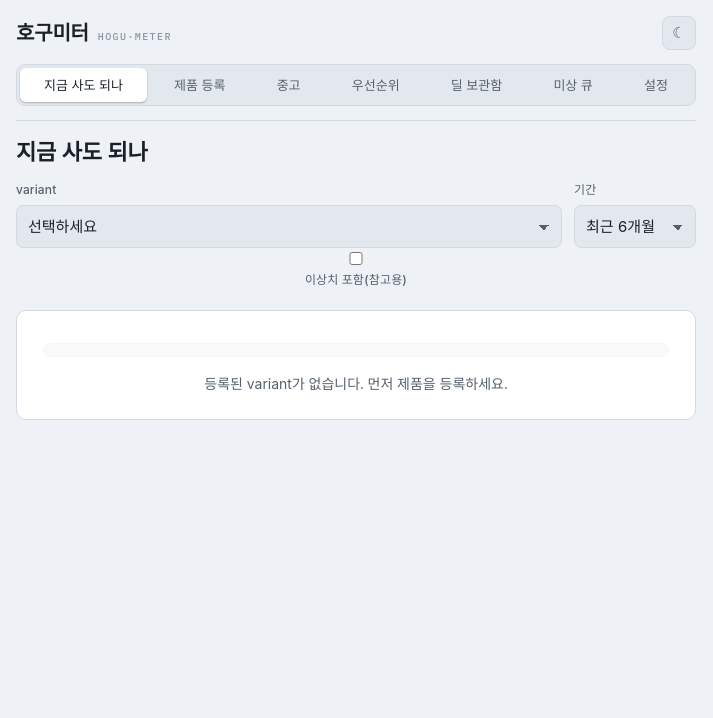
Test: App › 탭으로 중고 화면에 간다
Click the button "중고": point(289, 85) [252, 68, 325, 102]
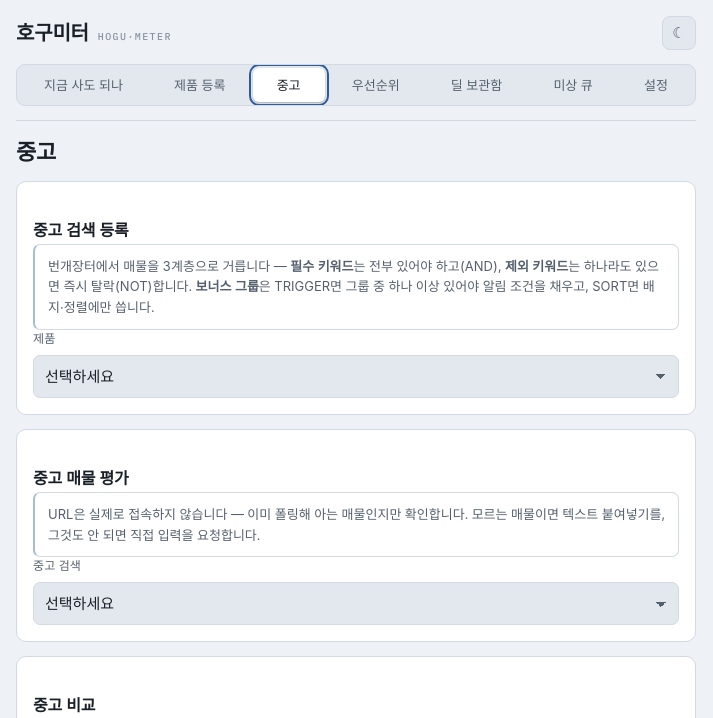
Expected: the heading "중고" is shown, [16, 139, 56, 165]
